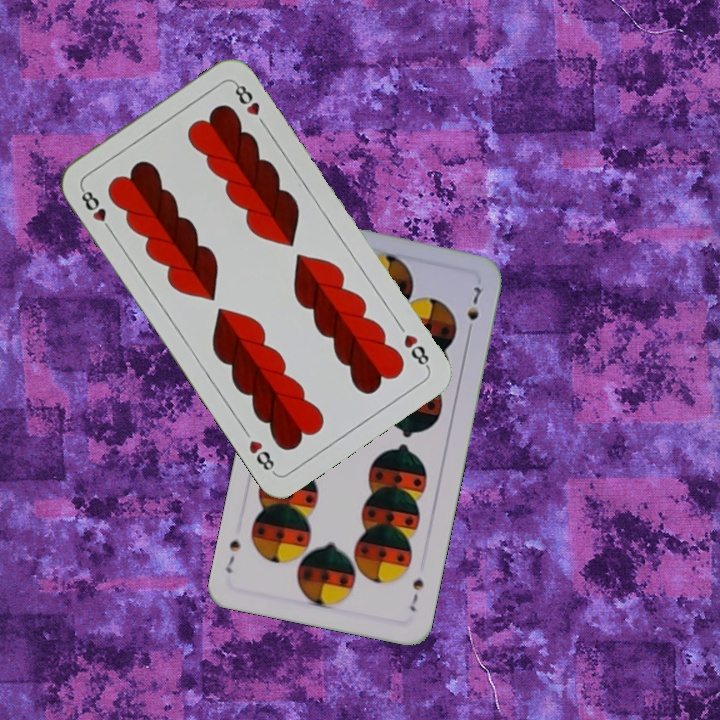H8: (77, 184, 116, 236), (399, 330, 433, 372)
S7: (406, 574, 426, 614)
